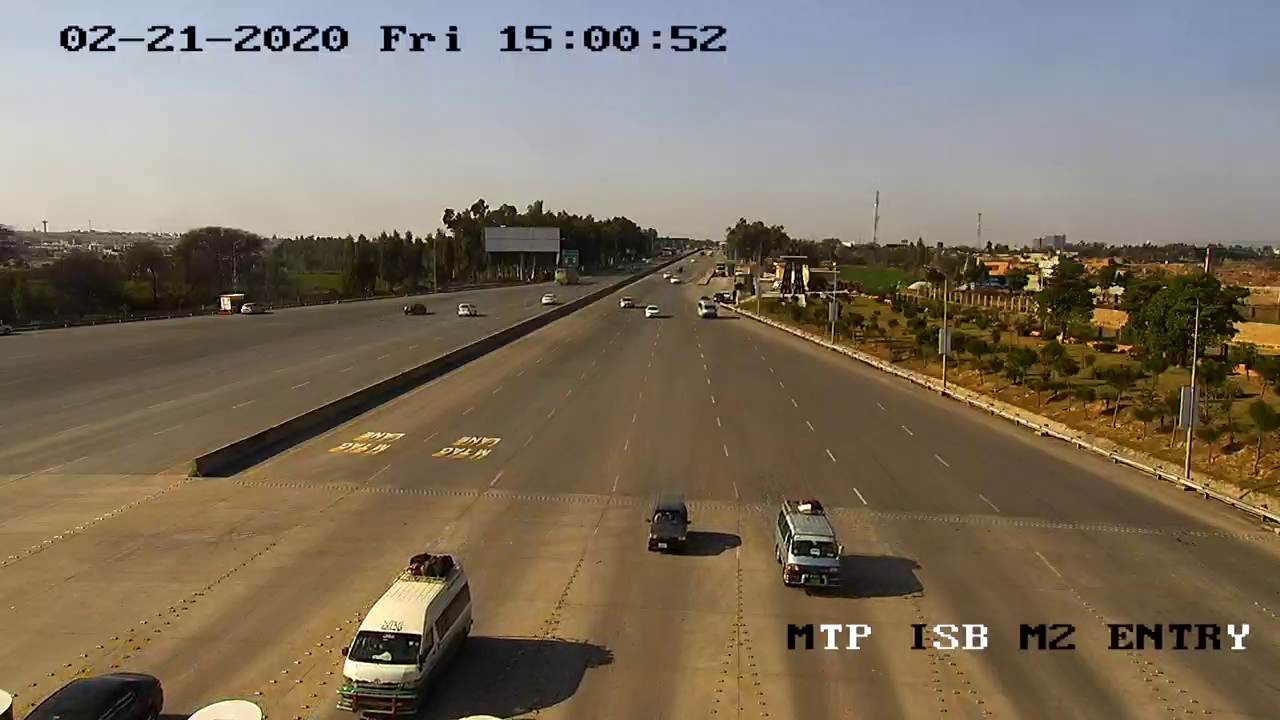f1: (631, 497, 706, 566)
f2: (760, 489, 859, 606)
f3: (317, 551, 485, 720)
